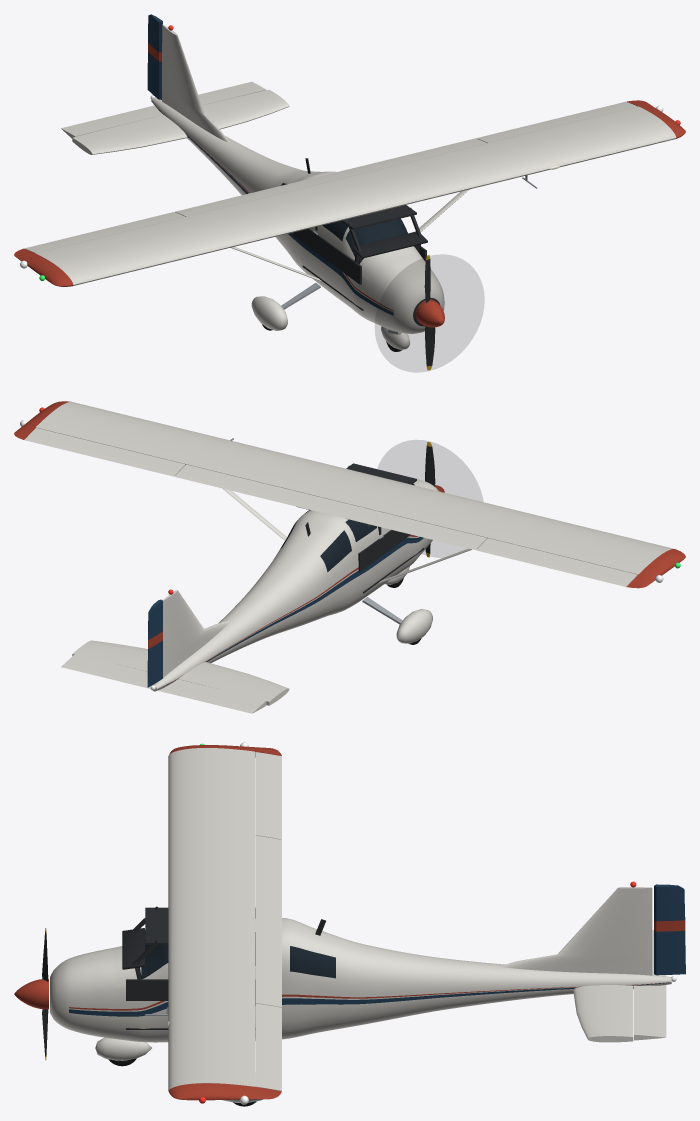
File: Trainer.fbx
The picture shows the model from 3 angles, top to bottom: view 1: azimuth 30°, elevation 25°; view 2: azimuth 150°, elevation 25°; view 3: azimuth 270°, elevation 25°; orthographic projection. The views are drawn at different scales.
Visible parts, largest first — view 1: Wing, Fuselage, Propeller disc, Tailplane, Fin, Flaps, Elevator surface, Aileron left surface, Aileron right surface, Door sill right, Rudder surface, Glareshield (+6 smaller); view 2: Wing, Fuselage, Flaps, Tailplane, Propeller disc, Elevator surface, Fin, Aileron left surface, Aileron right surface, Rudder surface, Wingtip right, Fairing right (+3 smaller); view 3: Wing, Fuselage, Fin, Flaps, Tailplane, Rudder surface, Aileron right surface, Aileron left surface, Elevator surface, Wingtip left, Nose fairing, Door sill left (+3 smaller).
Boxes of the visible parts, bbox=[...] form: Wing: bbox=[36, 106, 676, 285]; Fuselage: bbox=[151, 97, 444, 333]; Propeller disc: bbox=[375, 255, 483, 371]; Tailplane: bbox=[72, 89, 289, 154]; Fin: bbox=[162, 24, 229, 142]; Flaps: bbox=[175, 138, 486, 216]; Elevator surface: bbox=[61, 81, 266, 138]; Aileron left surface: bbox=[476, 101, 637, 142]; Aileron right surface: bbox=[24, 212, 184, 253]; Door sill right: bbox=[293, 228, 361, 284]; Rudder surface: bbox=[147, 14, 162, 99]; Glareshield: bbox=[352, 231, 427, 258]; Wing: bbox=[35, 401, 673, 574]; Fuselage: bbox=[153, 479, 438, 691]; Flaps: bbox=[175, 464, 487, 550]; Tailplane: bbox=[72, 640, 289, 705]; Propeller disc: bbox=[378, 440, 482, 557]; Elevator surface: bbox=[61, 654, 266, 713]; Fin: bbox=[163, 590, 229, 677]; Aileron left surface: bbox=[24, 428, 185, 476]; Aileron right surface: bbox=[476, 538, 637, 586]; Rudder surface: bbox=[147, 599, 162, 687]; Wingtip right: bbox=[627, 549, 685, 588]; Fairing right: bbox=[396, 609, 432, 643]; Wing: bbox=[168, 748, 254, 1090]; Fuselage: bbox=[50, 918, 671, 1042]; Fin: bbox=[500, 887, 652, 975]; Flaps: bbox=[255, 835, 281, 1007]; Tailplane: bbox=[573, 985, 633, 1042]; Rudder surface: bbox=[654, 884, 685, 975]; Aileron right surface: bbox=[255, 752, 281, 839]; Aileron left surface: bbox=[255, 1003, 281, 1090]; Elevator surface: bbox=[634, 930, 666, 1040]; Wingtip left: bbox=[168, 1083, 281, 1100]; Nose fairing: bbox=[95, 1037, 151, 1060]; Door sill left: bbox=[126, 979, 255, 1000].
Bounding box in the file's own units: 11.08 × 2.66 × 8.81.
